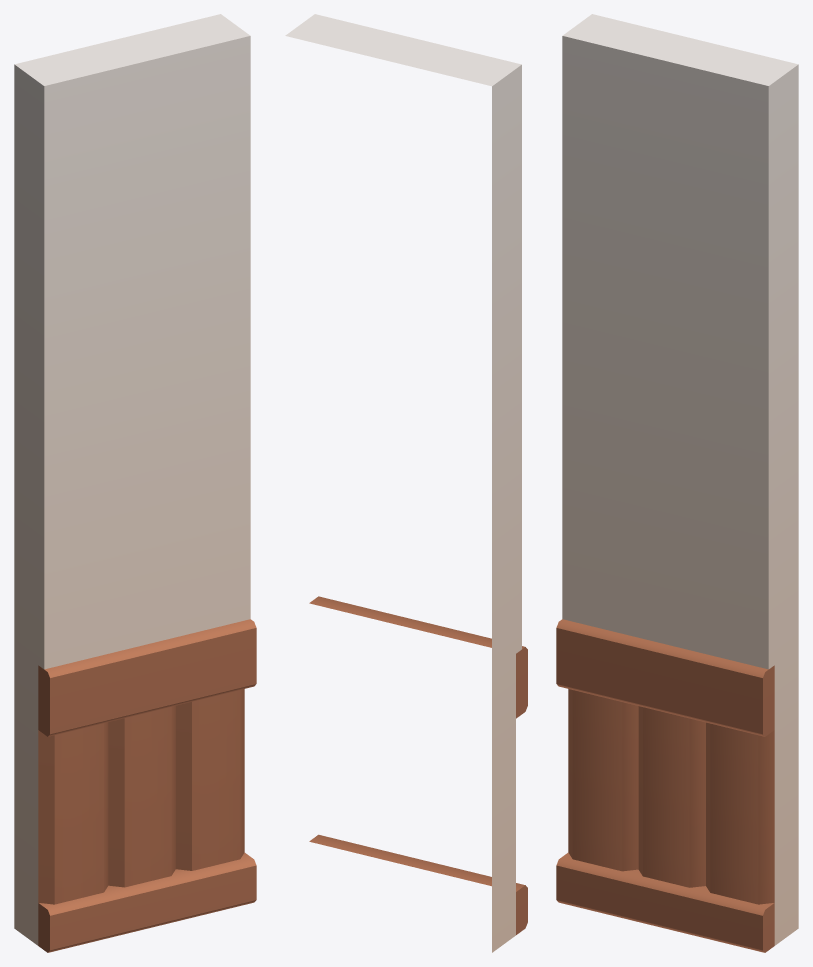
File: wall-modular-panelled-bakery-half-straight-a.glb
3 views of the same model, side by side, from view 1: azimuth 30°, elevation 25°; view 2: azimuth 150°, elevation 25°; view 3: azimuth 330°, elevation 25° (orthographic).
Parts seen in each view (by area): view 1: wall_modular_panelled_bakery_half_straight_A; view 2: wall_modular_panelled_bakery_half_straight_A; view 3: wall_modular_panelled_bakery_half_straight_A.
Part boxes in pixels (x1=…): wall_modular_panelled_bakery_half_straight_A: x1=14, y1=14, x2=256, y2=952; wall_modular_panelled_bakery_half_straight_A: x1=285, y1=14, x2=527, y2=952; wall_modular_panelled_bakery_half_straight_A: x1=556, y1=14, x2=798, y2=952.
Size of the model in its own units: 1 by 4 by 0.3.
Materials: 1 (1 with a texture image).
